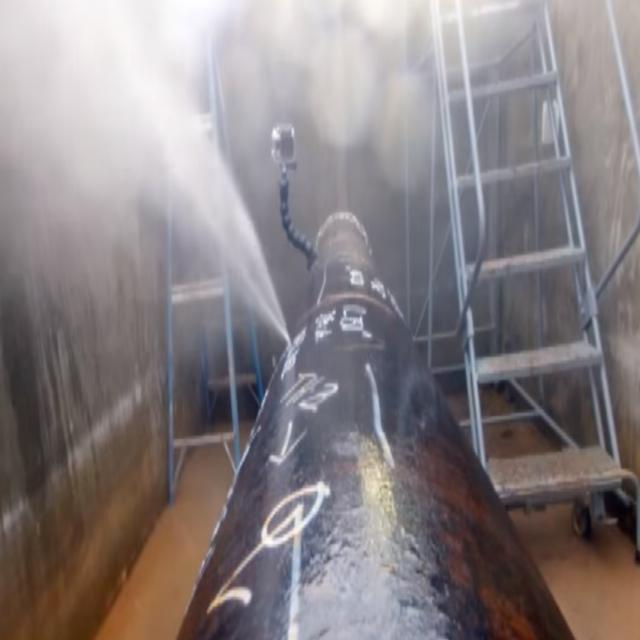leak: (139, 77, 289, 341)
